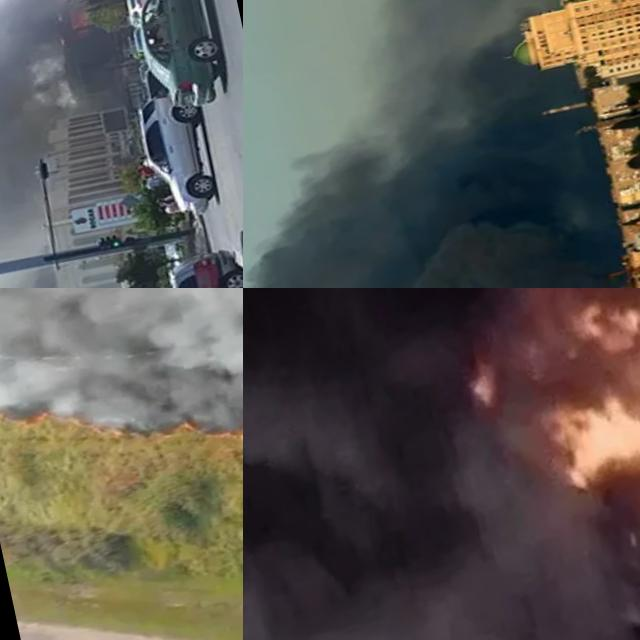smoke: (243, 288, 640, 640), (243, 0, 640, 288), (0, 288, 243, 466), (0, 0, 109, 235)
